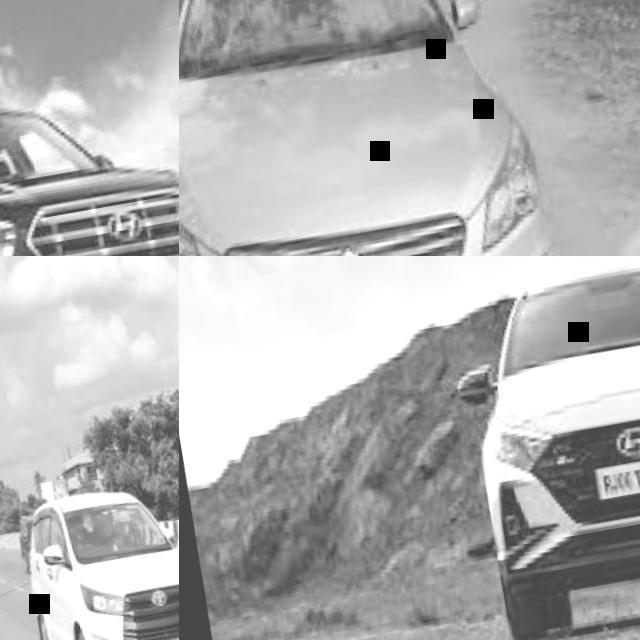car: (18, 488, 178, 639)
